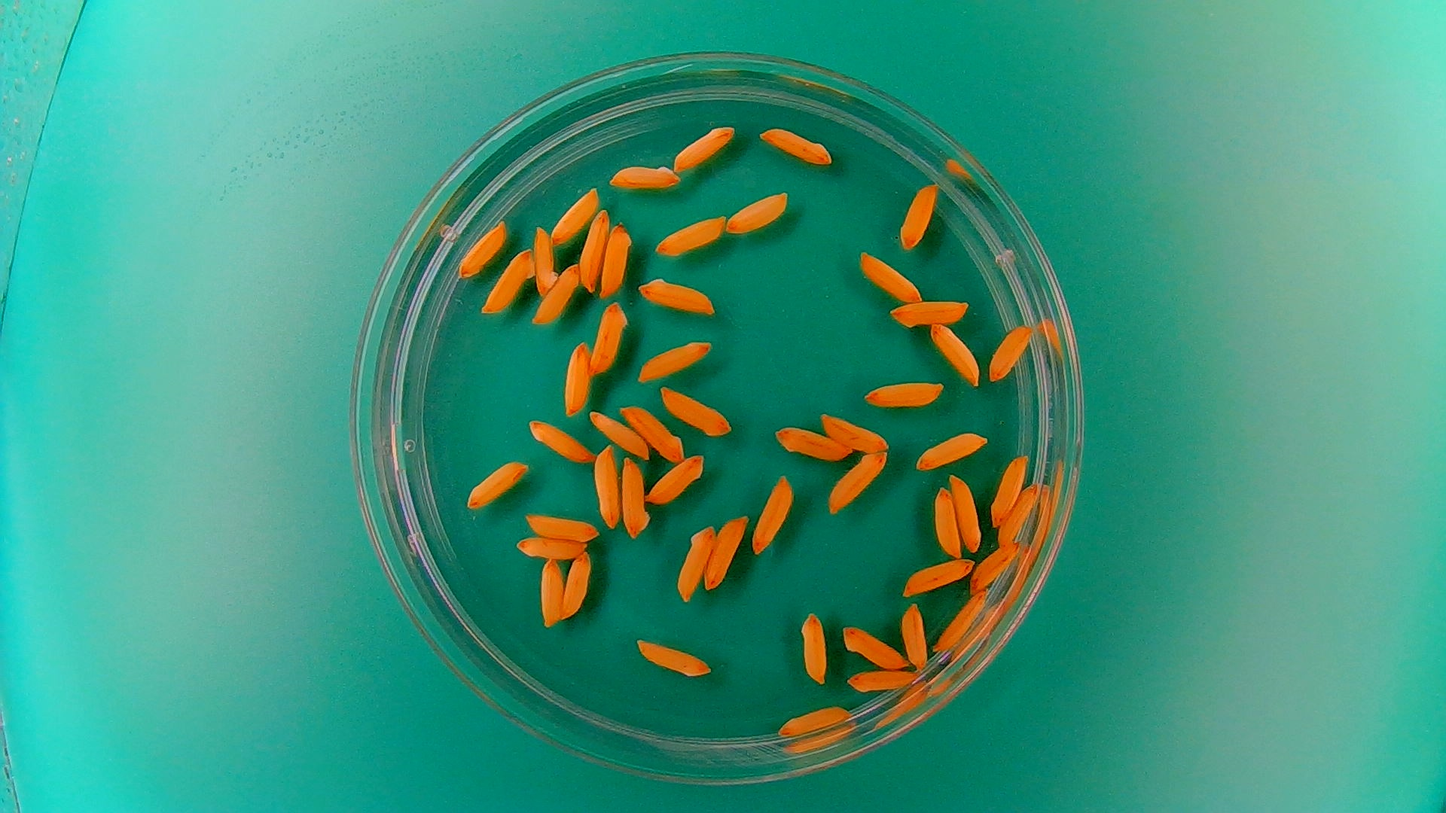no: (483, 230, 535, 327), (657, 385, 734, 437), (827, 450, 889, 514), (620, 403, 685, 461), (463, 457, 530, 510), (703, 513, 749, 590), (751, 472, 794, 554), (857, 250, 923, 303), (670, 121, 737, 173), (932, 590, 988, 652), (654, 212, 728, 258), (633, 635, 712, 678), (635, 338, 712, 382), (929, 320, 981, 385), (757, 123, 835, 166), (531, 261, 581, 327), (645, 452, 706, 506), (675, 523, 716, 602), (587, 407, 650, 458), (549, 184, 600, 247), (636, 276, 718, 315), (527, 417, 595, 464), (456, 218, 508, 279), (725, 187, 791, 235), (897, 179, 941, 251), (987, 453, 1030, 526), (587, 300, 628, 376), (841, 623, 908, 669), (819, 411, 891, 453), (578, 206, 612, 294), (914, 430, 988, 470), (999, 481, 1043, 547), (773, 424, 851, 461), (986, 322, 1034, 382), (948, 471, 983, 553), (618, 454, 651, 540), (902, 557, 975, 595), (599, 218, 633, 299), (969, 541, 1022, 592), (776, 702, 853, 737), (591, 444, 622, 530), (890, 297, 971, 328), (561, 339, 592, 419), (862, 378, 944, 408), (559, 549, 593, 621), (607, 160, 682, 192), (523, 510, 600, 541), (799, 610, 829, 683), (933, 486, 962, 559), (899, 601, 929, 670), (532, 222, 559, 297), (538, 556, 565, 629), (514, 534, 588, 559), (846, 667, 917, 693)
